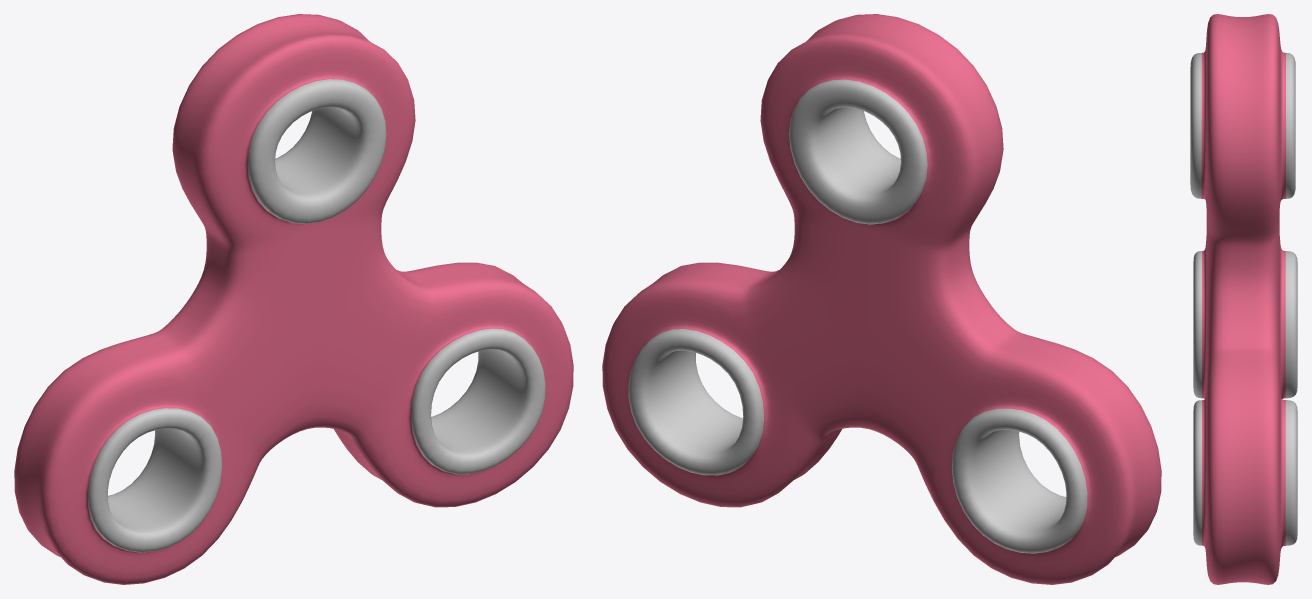
Rendered from Finger_Toy.fbx.
3 renders of one model, left to right at view 1: azimuth 30°, elevation 25°; view 2: azimuth 150°, elevation 25°; view 3: azimuth 270°, elevation 25°, orthographic. The views are drawn at different scales.
Parts seen in each view (by area): view 1: Plane; view 2: Plane; view 3: Plane.
Part boxes in pixels (<box>): Plane: <box>14,14,573,584</box>; Plane: <box>602,14,1161,584</box>; Plane: <box>1190,14,1297,584</box>.
Size of the model in its own units: 70.35 by 13.06 by 63.93.
